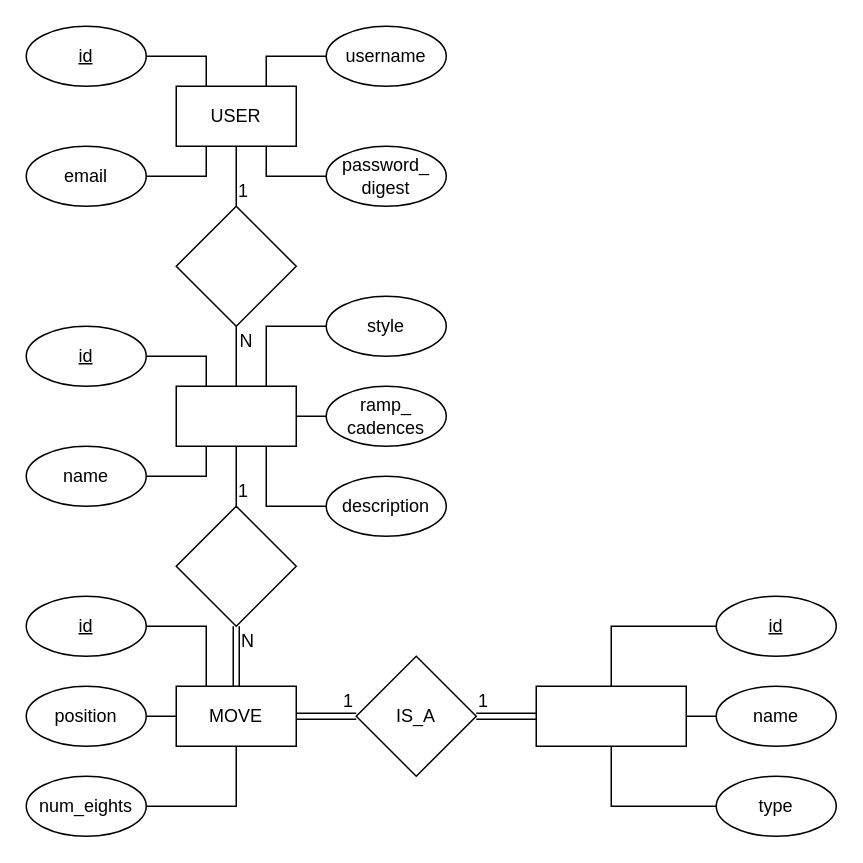
The diagram is 863 pixels wide and 863 high, and some of its shapes have lost their labels. The shapes that lost their labels are listed below. From the top down, each one's centre as x and y in pixels, then its label:
At point 235,265: "CREATES".
At point 235,415: "DRILL".
At point 235,565: "CONTAINS".
At point 610,715: "FUNDAMENTAL".
